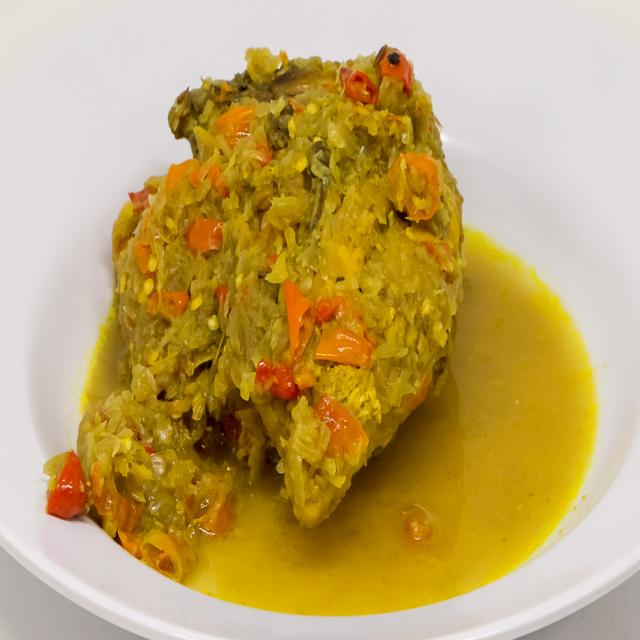Ayam-Betutu: (70, 19, 474, 592)
